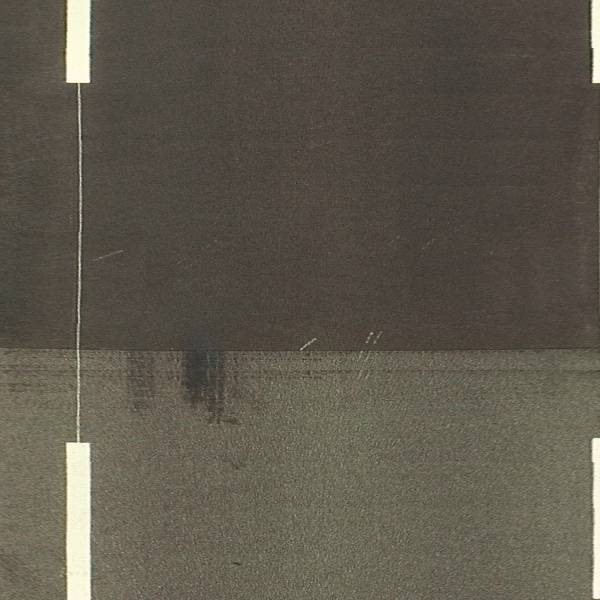road_damage: (88, 340, 597, 359)
